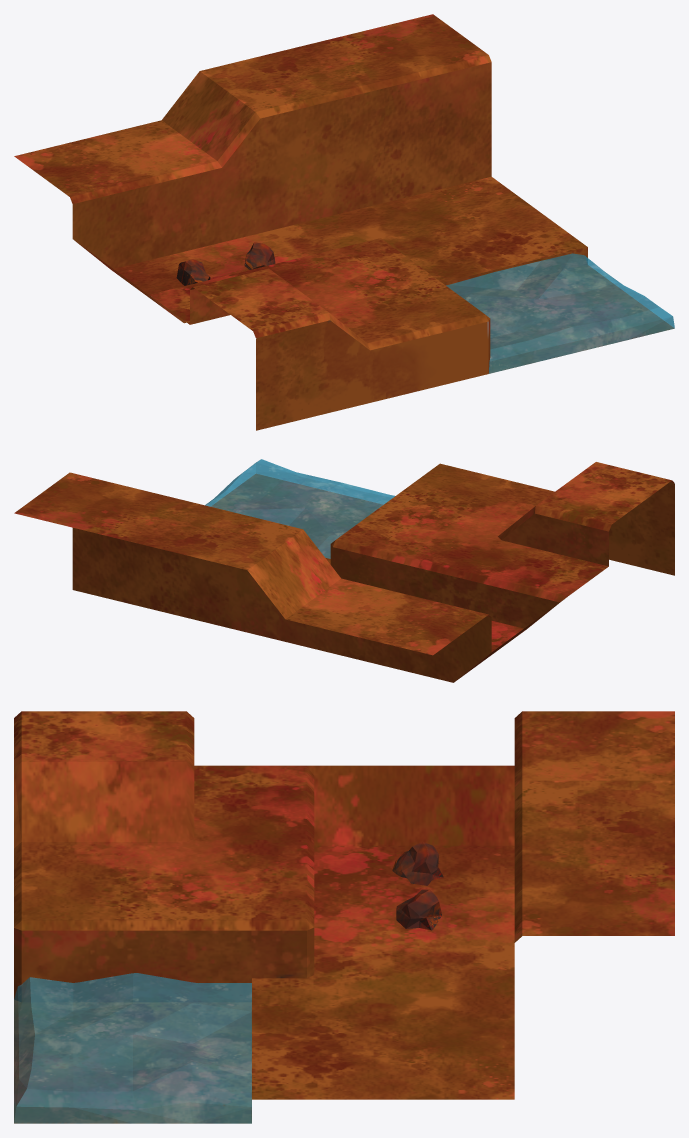
Rendered from lvl_2-cnk_3.obj.
3 renders of one model, top to bottom at view 1: azimuth 30°, elevation 25°; view 2: azimuth 150°, elevation 25°; view 3: azimuth 270°, elevation 25°, orthographic. The views are drawn at different scales.
Visible parts, largest first — view 1: chunk.006, Agua.001, Icosphere.025, Icosphere.026; view 2: chunk.006, Agua.001; view 3: chunk.006, Agua.001, Icosphere.025, Icosphere.026.
Boxes of the visible parts, left/top/right/bottom form: chunk.006: left=14, top=14, right=674, bottom=430; Agua.001: left=446, top=253, right=674, bottom=373; Icosphere.025: left=176, top=259, right=210, bottom=285; Icosphere.026: left=244, top=242, right=275, bottom=269; chunk.006: left=14, top=462, right=674, bottom=682; Agua.001: left=205, top=459, right=394, bottom=558; chunk.006: left=14, top=711, right=674, bottom=1123; Agua.001: left=14, top=973, right=251, bottom=1123; Icosphere.025: left=392, top=842, right=443, bottom=885; Icosphere.026: left=396, top=889, right=441, bottom=930.
Size of the model in its own units: 99 by 31 by 99.
Materials: 2 (2 with a texture image).
